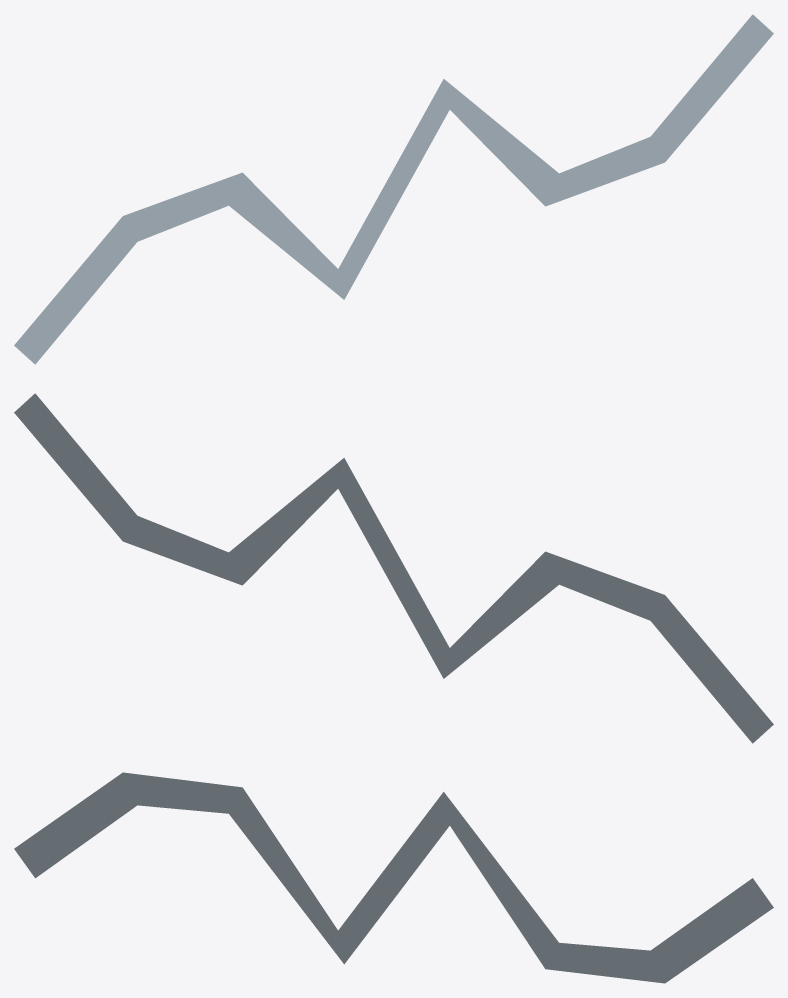
The model's file is 2045_PotionThrow_Overall_GroundArc67.fbx.
The picture shows the model from 3 angles, top to bottom: view 1: azimuth 30°, elevation 25°; view 2: azimuth 150°, elevation 25°; view 3: azimuth 330°, elevation 25°; orthographic projection.
Parts seen in each view (by area): view 1: PART_GroundArc67; view 2: PART_GroundArc67; view 3: PART_GroundArc67.
Boxes of the visible parts, box(x1,y1,x2,y2) form: PART_GroundArc67: box(14, 14, 773, 364); PART_GroundArc67: box(14, 393, 773, 743); PART_GroundArc67: box(14, 772, 773, 983).
Bounding box in the file's own units: 72.02 × 17.86 × 2.91e-06.
